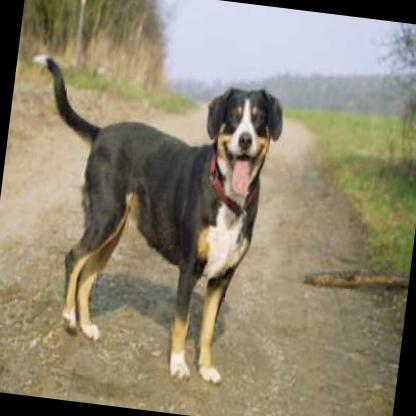EntleBucher: (0, 47, 289, 386)
